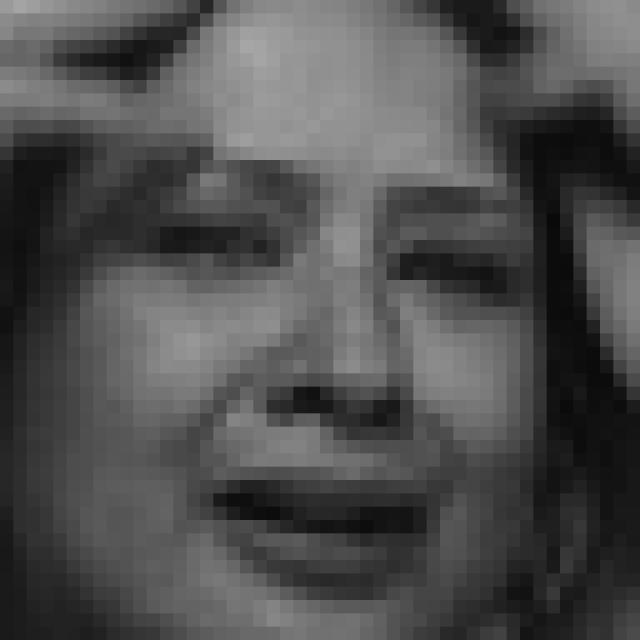sad: (123, 140, 531, 607)
